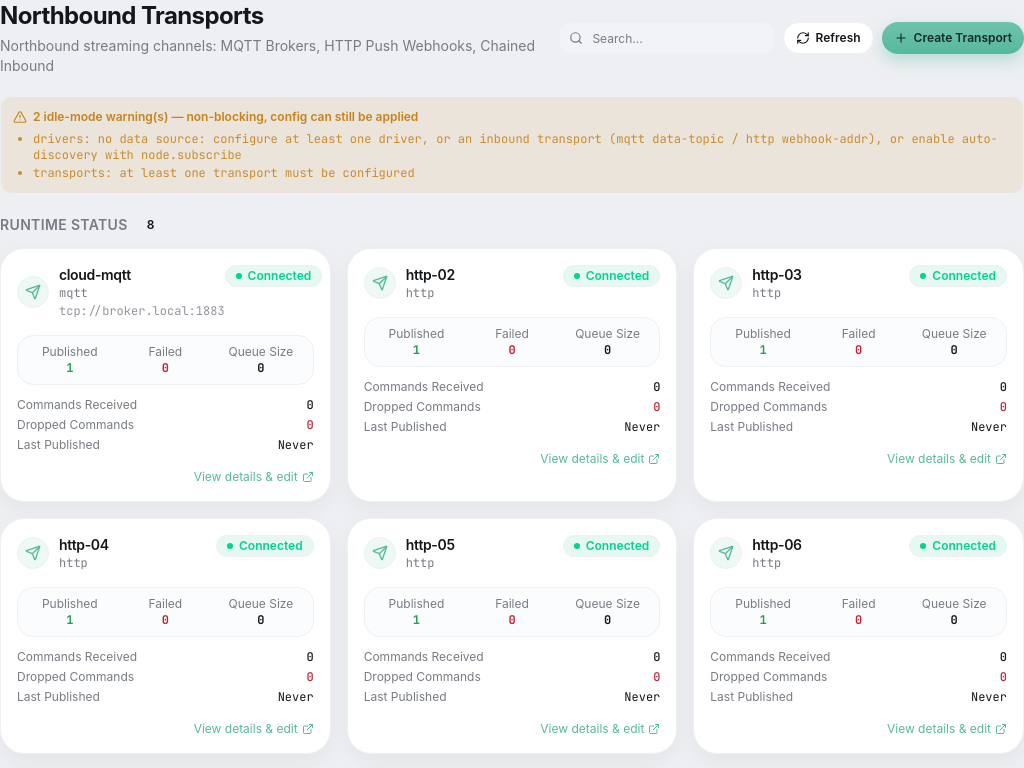
page-header search covers both zones › TransportsPage: runtime transports filter through the header bar
Check: the heading "http-02" is shown, box [406,265,455,285]
Type "cloud-mqtt" into the field with placeholder "Search..." at (667, 38), box [559,22,775,54]
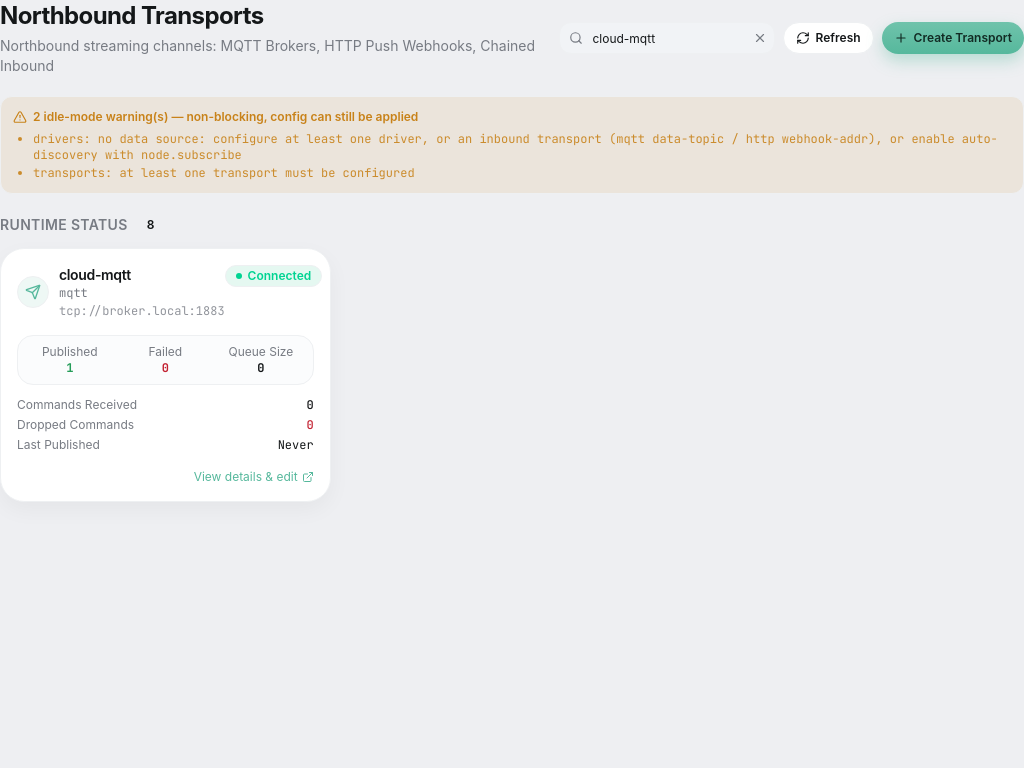
Check: the heading "cloud-mqtt" is shown, box [59,266,131,283]
Check: the button "http-02" is gone
